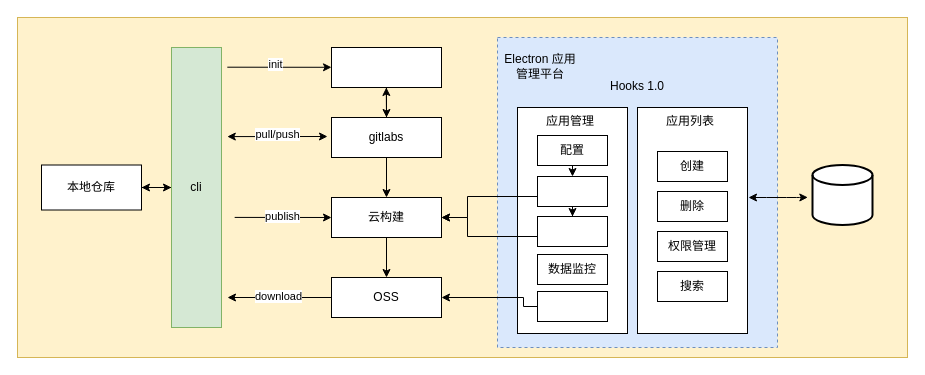
The diagram is 925 pixels wide and 375 high, and some of its shapes have lost their labels. The centre of each missing label's shape, as x and y in pixels:
DMS: the point at 842,195
electron模版: the point at 386,67
发布: the point at 572,191
回滚: the point at 572,231
文件管理: the point at 572,306
